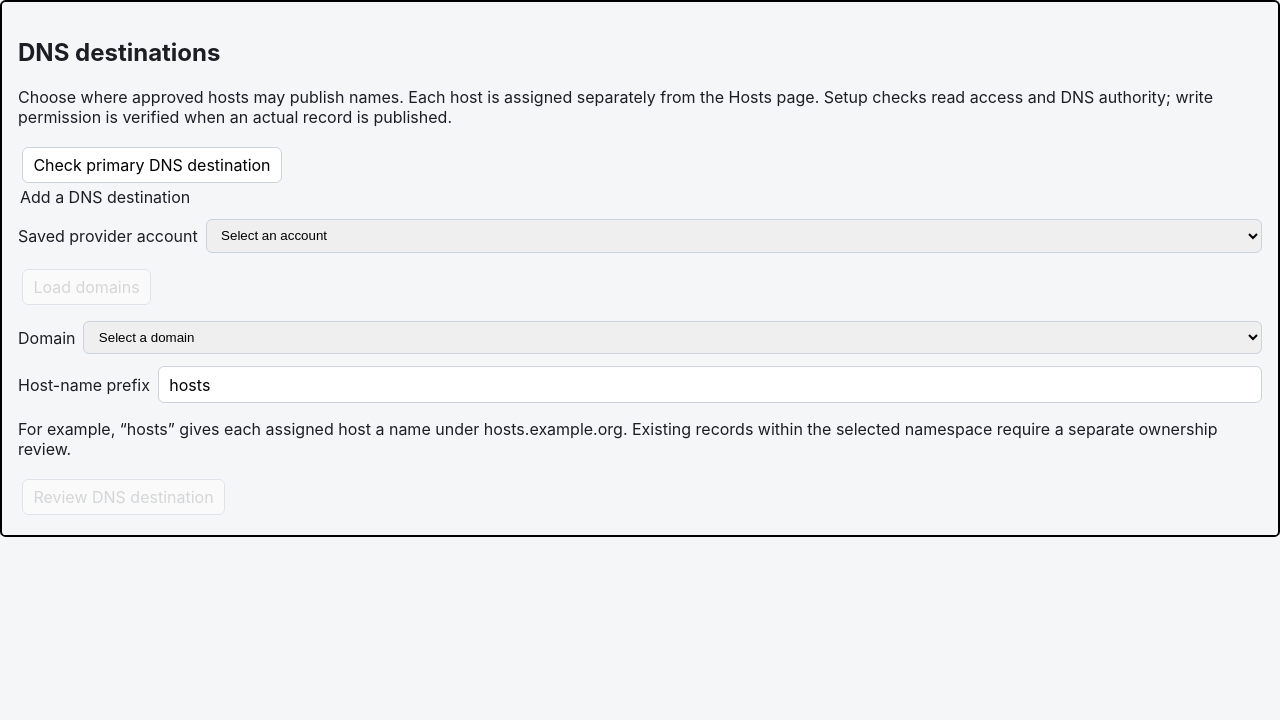
Test: shows pending recovery and stale host evidence
Click the button "Check primary DNS destination" at x=152, y=165, box top-left (22, 147), bottom-right (282, 183)
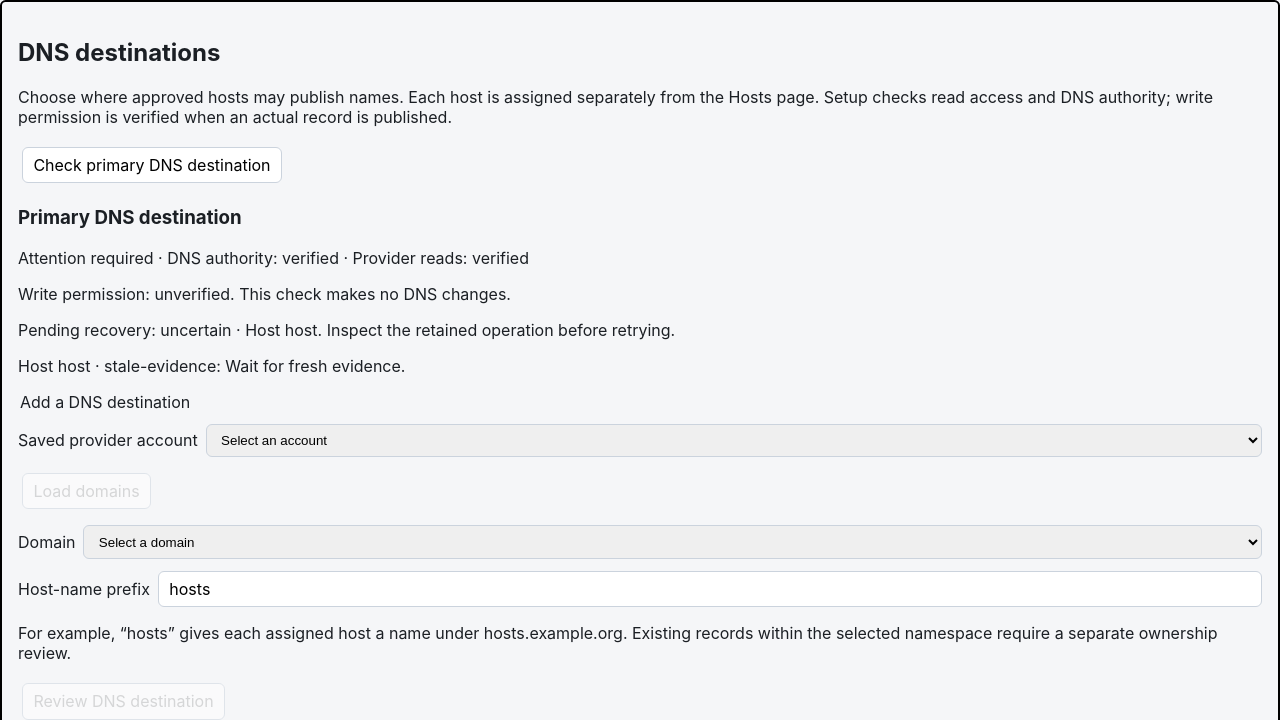
Now the text "Pending recovery: uncertain" is shown, box top-left (18, 320), bottom-right (675, 340)
Now the text "Host host · stale-evidence: Wait for fresh evidence." is shown, box top-left (18, 356), bottom-right (405, 376)
